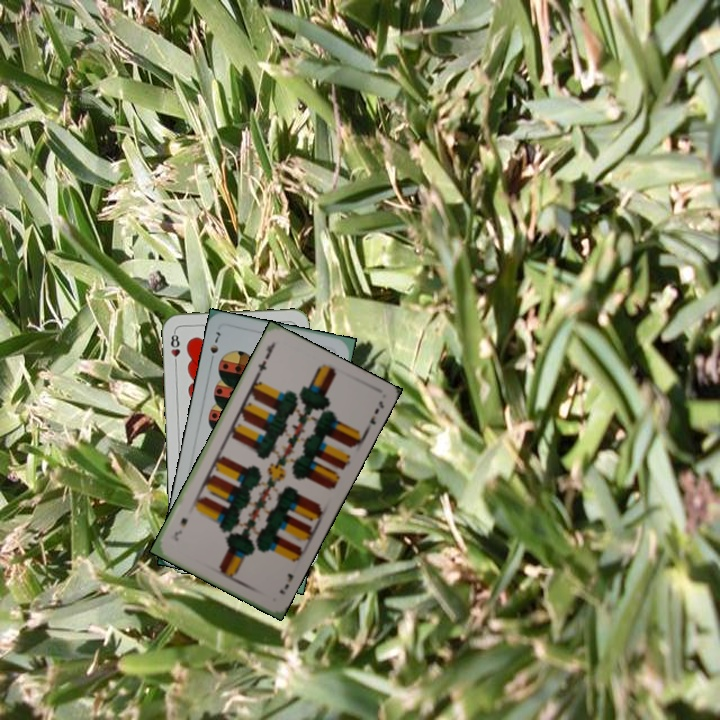E7: (253, 339, 277, 378), (275, 569, 296, 597)
H8: (167, 328, 182, 368)
S7: (206, 327, 223, 366)
